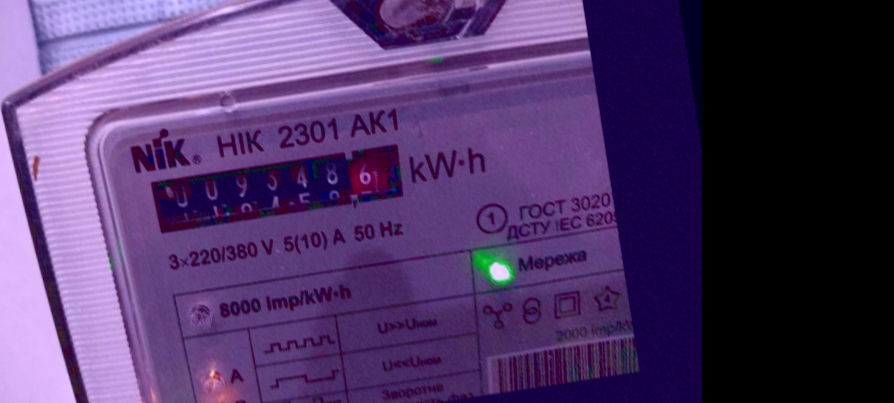0: (171, 179, 188, 207), (200, 174, 219, 199)
3: (261, 164, 278, 192)
4: (290, 159, 308, 188)
6: (353, 156, 373, 186)
8: (320, 156, 339, 186)
9: (230, 170, 249, 198)
screen: (138, 133, 415, 242)
